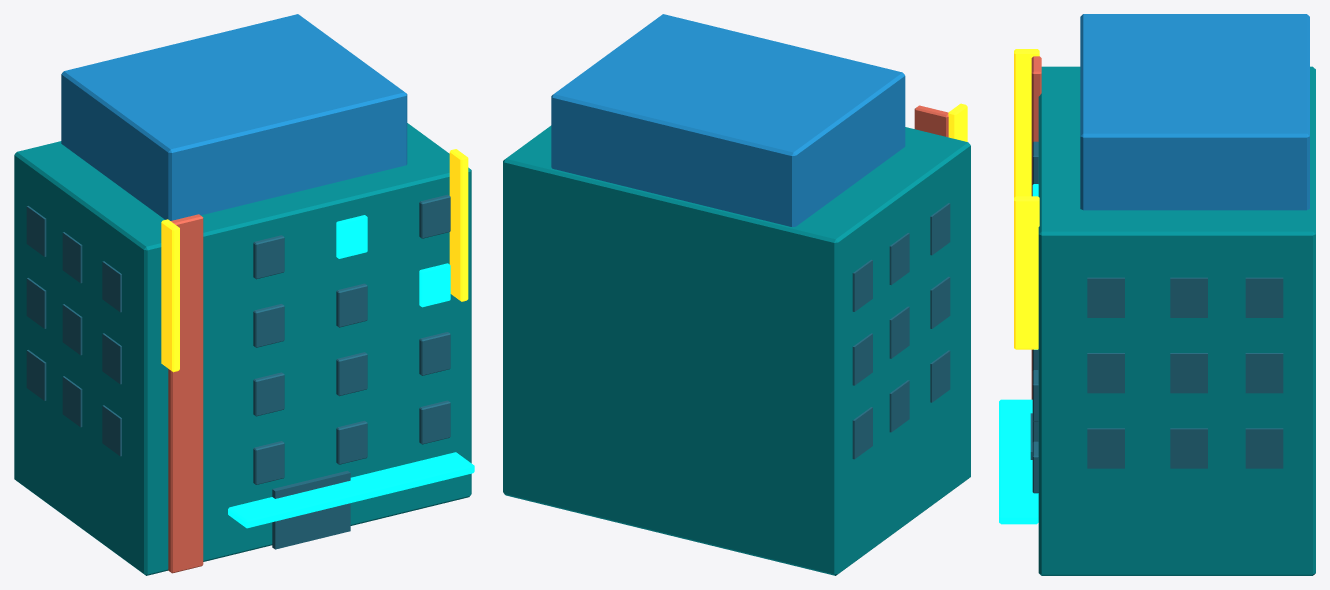
Rendered from city_block_a.glb.
3 renders of one model, left to right at view 1: azimuth 30°, elevation 25°; view 2: azimuth 150°, elevation 25°; view 3: azimuth 270°, elevation 25°, orthographic. The views are drawn at different scales.
Parts seen in each view (by area): view 1: A_Main, A_Upper, City_Block_A_Windows_FR_Glass, A_CoralSpine, A_CyanCanopy, A_Entrance, A_SideFin_4.4, A_SideFin_-4.4, City_Block_A_Windows_FR_Cyan; view 2: A_Main, A_Upper, City_Block_A_Windows_FR_Glass, A_CoralSpine, A_SideFin_-4.4; view 3: A_Main, A_Upper, City_Block_A_Windows_FR_Glass, A_CyanCanopy, A_SideFin_4.4, A_SideFin_-4.4, A_CoralSpine.
Boxes of the visible parts, x1,y1,x2,y2 form: A_Main: (14,123,471,575); A_Upper: (61,14,407,220); City_Block_A_Windows_FR_Glass: (26,194,450,484); A_CoralSpine: (168,214,203,573); A_CyanCanopy: (228,452,474,528); A_Entrance: (272,470,350,549); A_SideFin_4.4: (449,149,468,301); A_SideFin_-4.4: (161,219,179,372); City_Block_A_Windows_FR_Cyan: (336,215,450,307); A_Main: (503,125,970,575); A_Upper: (551,14,905,226); City_Block_A_Windows_FR_Glass: (852,203,950,459); A_CoralSpine: (914,105,948,137); A_SideFin_-4.4: (948,103,967,141); A_Main: (1038,66,1315,575); A_Upper: (1080,14,1309,210); City_Block_A_Windows_FR_Glass: (1032,141,1283,493); A_CyanCanopy: (999,399,1038,524); A_SideFin_4.4: (1014,196,1039,349); A_SideFin_-4.4: (1014,49,1039,197); A_CoralSpine: (1031,56,1041,399).
Bounding box in the file's own units: 10.11 × 11.7 × 8.
